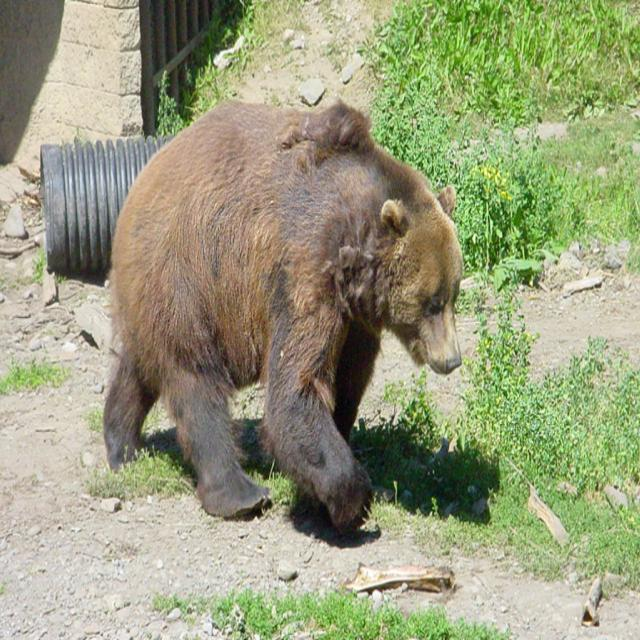Cheetahs: (102, 102, 464, 538)
